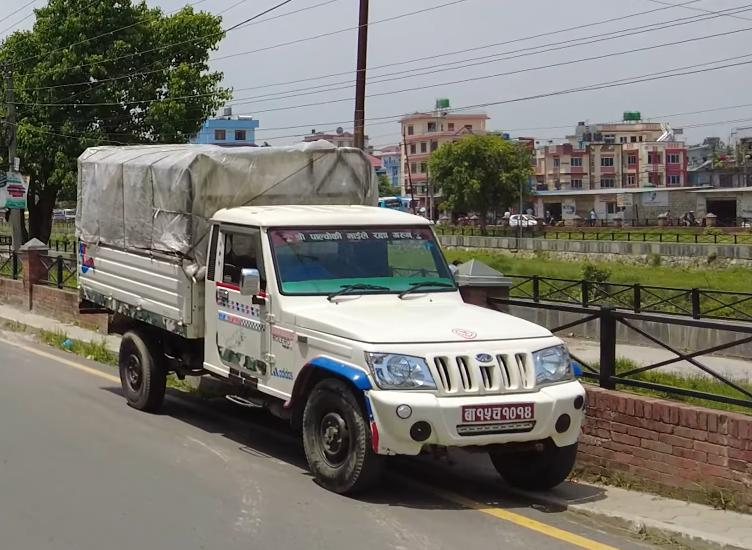transport_vehicle: (73, 137, 591, 500)
